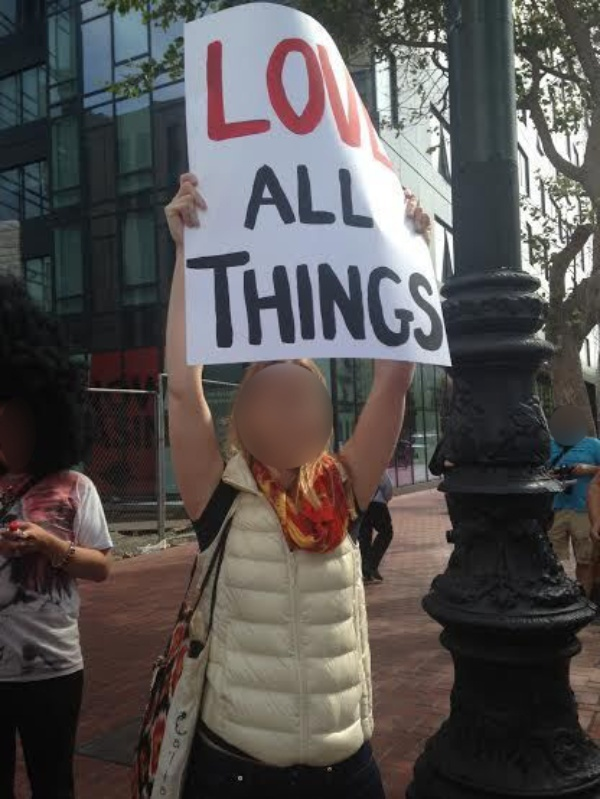text: (209, 34, 224, 161), (225, 34, 240, 161), (241, 34, 256, 161), (257, 34, 272, 161), (273, 34, 288, 161), (289, 34, 304, 161), (305, 34, 320, 161), (321, 34, 336, 161), (337, 34, 352, 161), (353, 34, 368, 161), (369, 34, 384, 161), (193, 249, 208, 352), (209, 249, 224, 352), (225, 249, 240, 352), (241, 249, 256, 352), (257, 249, 272, 352), (273, 249, 288, 352), (289, 249, 304, 352), (305, 249, 320, 352), (321, 249, 336, 352), (337, 249, 352, 352), (353, 249, 368, 352), (369, 249, 384, 352), (385, 249, 400, 352), (401, 249, 416, 352), (417, 249, 432, 352), (433, 249, 448, 352), (198, 34, 208, 161), (385, 34, 394, 161), (181, 249, 192, 352), (257, 161, 272, 233), (273, 161, 288, 233), (289, 161, 304, 233), (305, 161, 320, 233), (321, 161, 336, 233), (337, 161, 352, 233), (353, 161, 368, 233), (369, 161, 378, 233), (449, 249, 453, 352)
